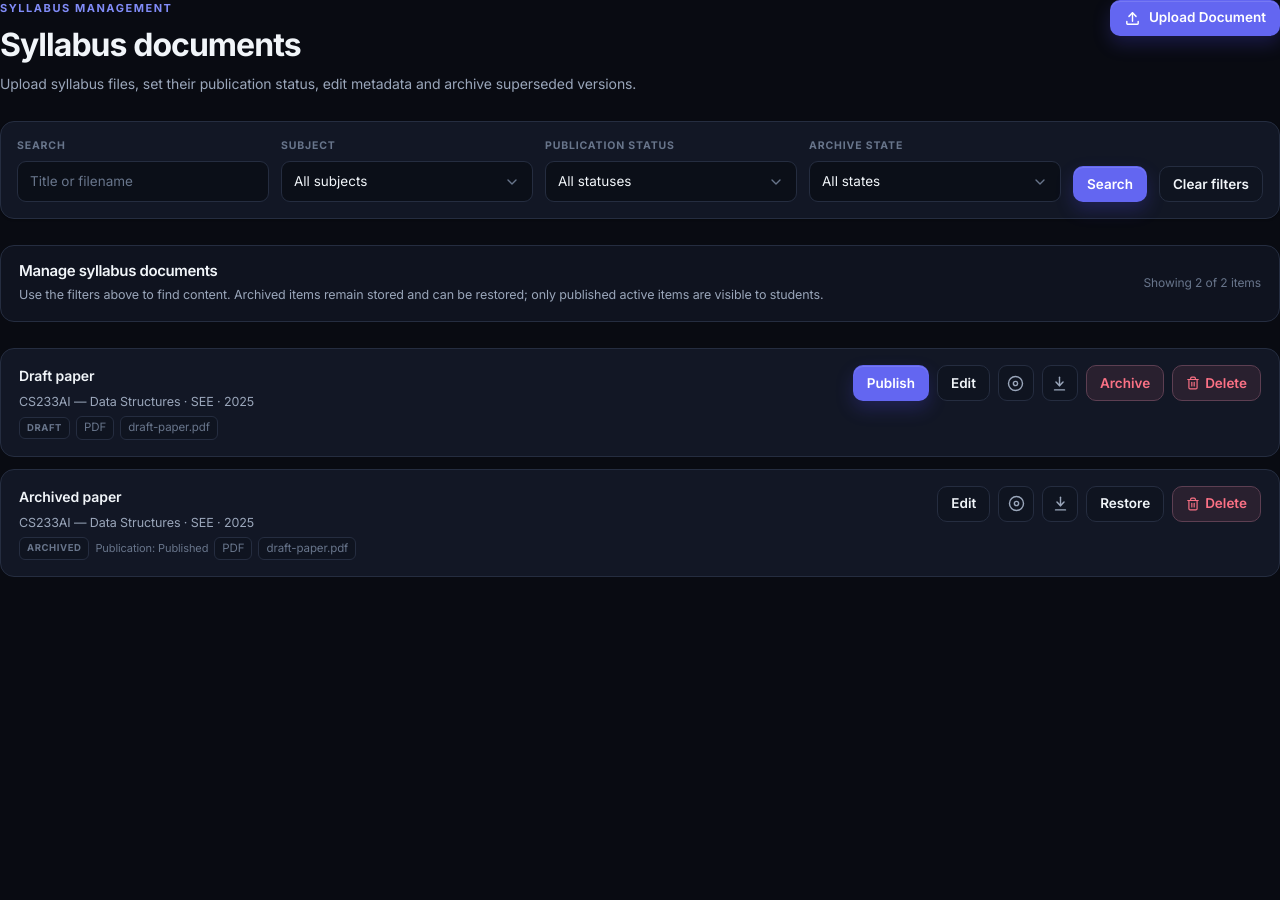
AdminContentManager lifecycle states › opens the syllabus modal with syllabus-specific fields
Click the button "Upload Document": (1195, 18) [1110, 0, 1279, 36]
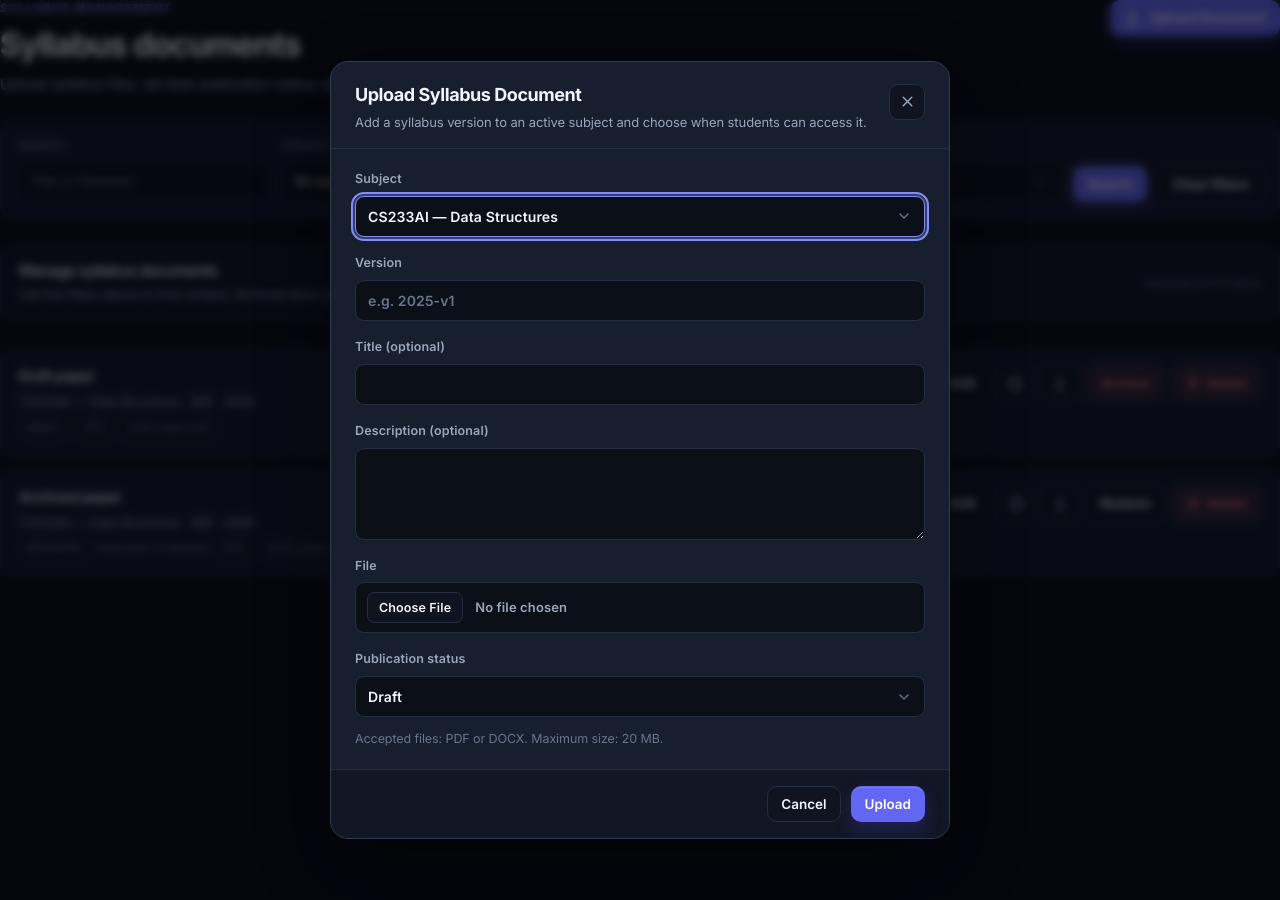
Expected: the heading "Upload Syllabus Document" is shown, [355, 84, 581, 105]
Expected: the field labelled "Version" is shown, [355, 280, 925, 321]
